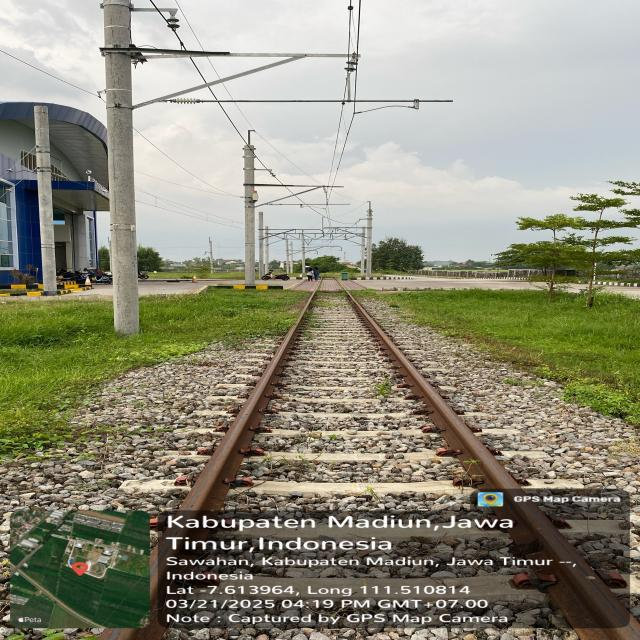rail-detection: (350, 296, 640, 640), (179, 296, 314, 520)
